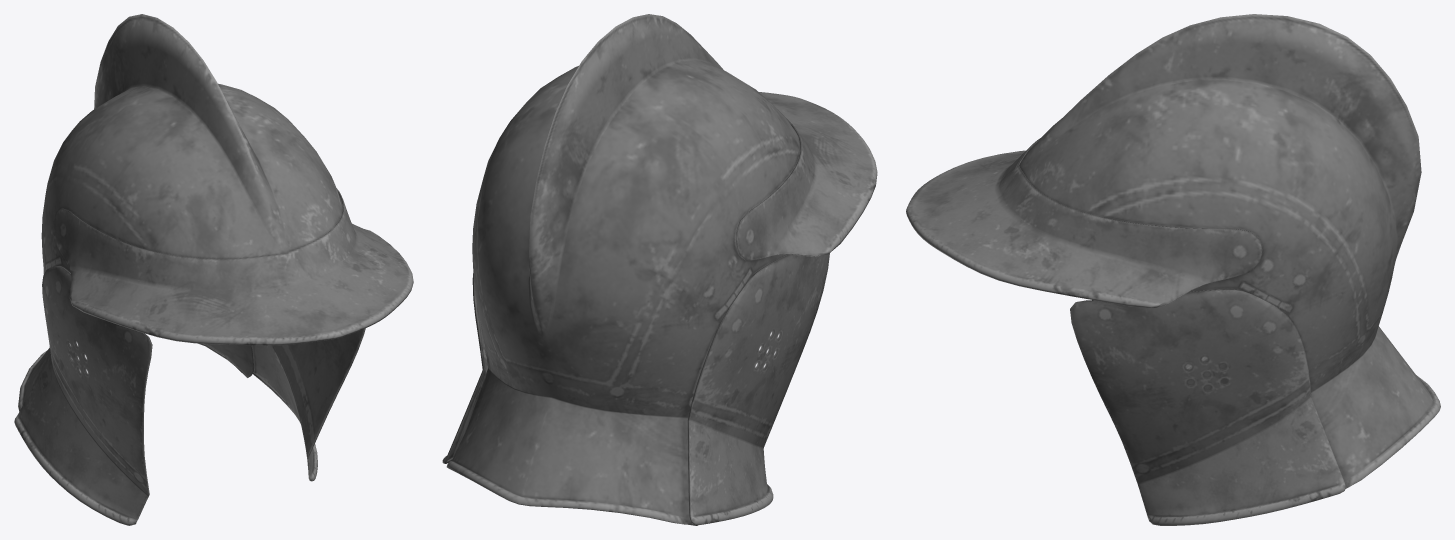
Rendered from role-helm.draco.glb.
The picture shows the model from 3 angles, left to right: view 1: azimuth 30°, elevation 25°; view 2: azimuth 150°, elevation 25°; view 3: azimuth 270°, elevation 25°; orthographic projection. The views are drawn at different scales.
Visible parts, largest first — view 1: main; view 2: main; view 3: main.
Part boxes in pixels (bbox=[...]): main: bbox=[14, 14, 413, 525]; main: bbox=[442, 14, 877, 525]; main: bbox=[906, 14, 1440, 525].
Size of the model in its own units: 0.2164 by 0.3057 by 0.32.
Materials: 1 (1 with a texture image).
